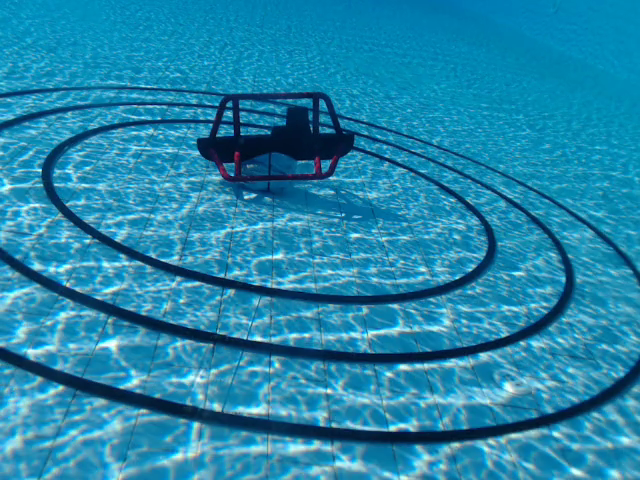submarine: (195, 89, 357, 187)
